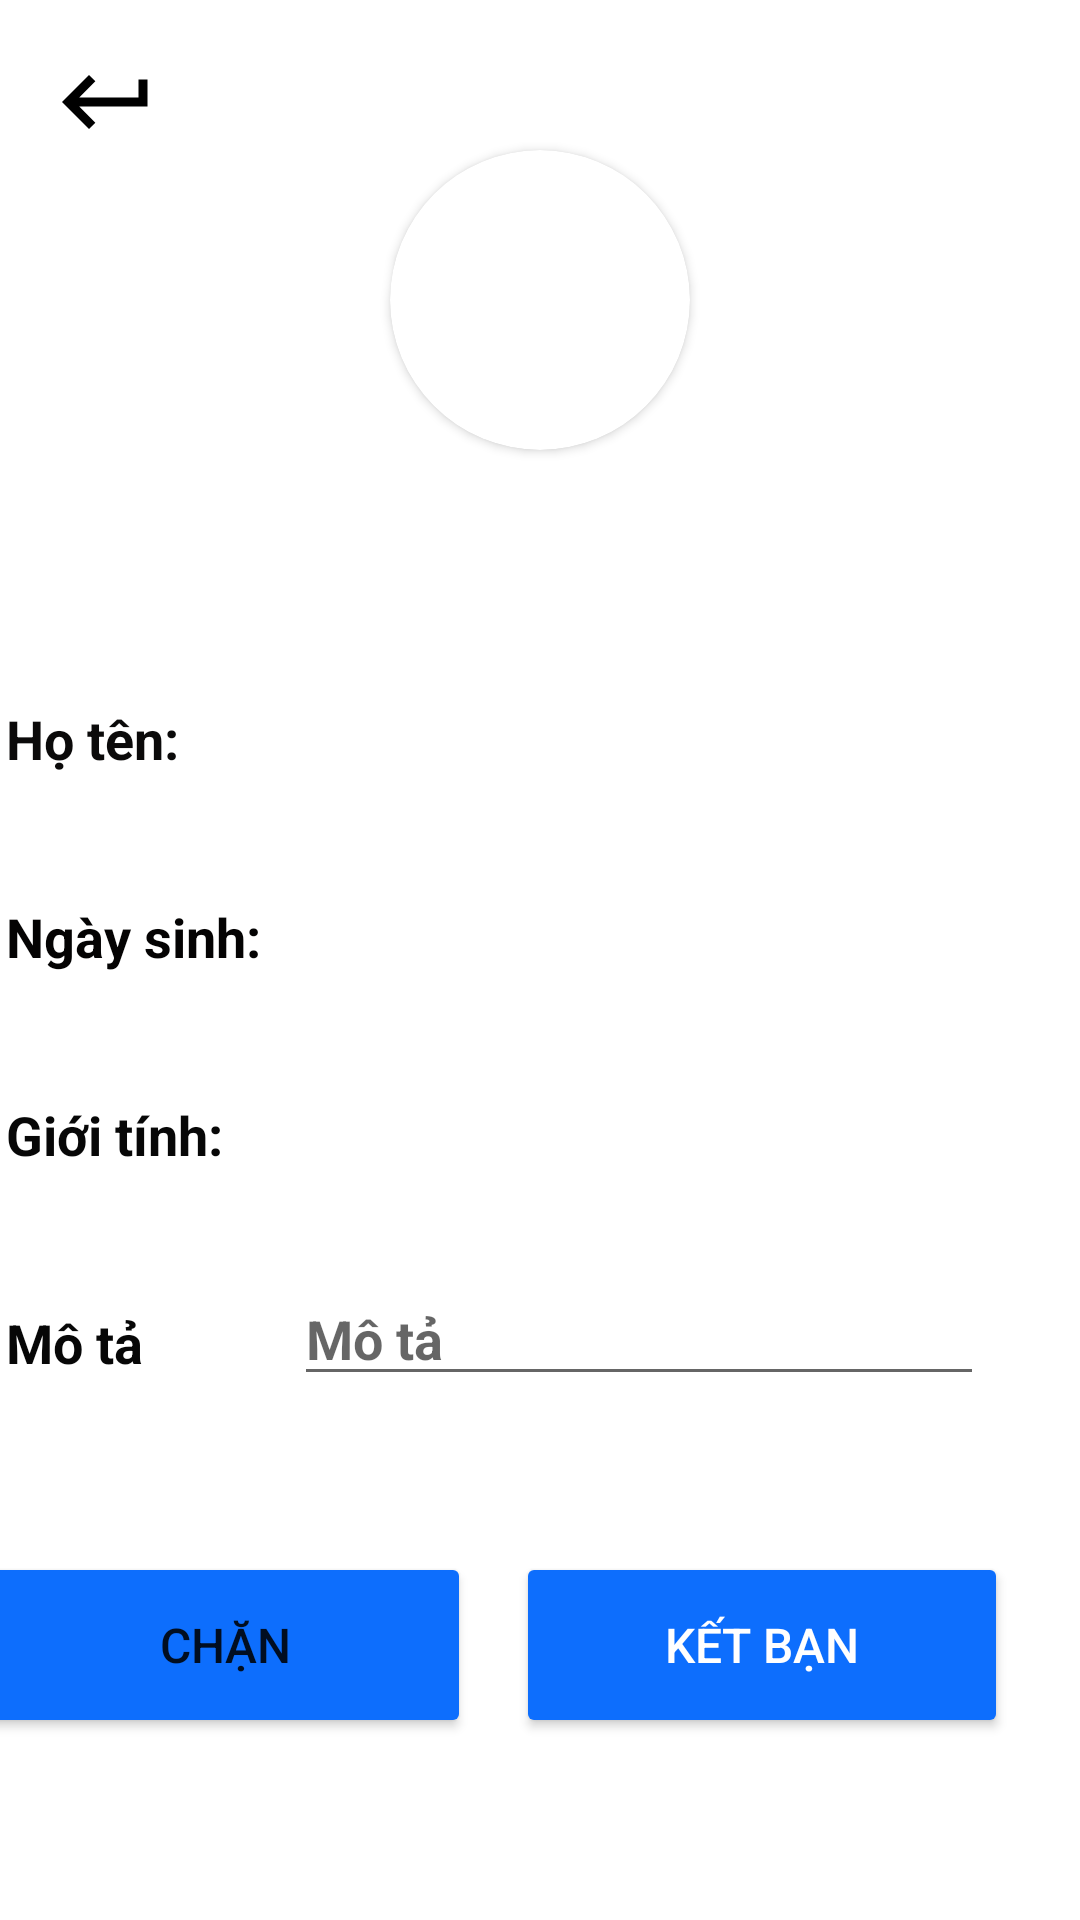

Icon click points for this 1080w x 1920h phone screenshot, format point (x, y):
keyboard return: point (105, 102)
